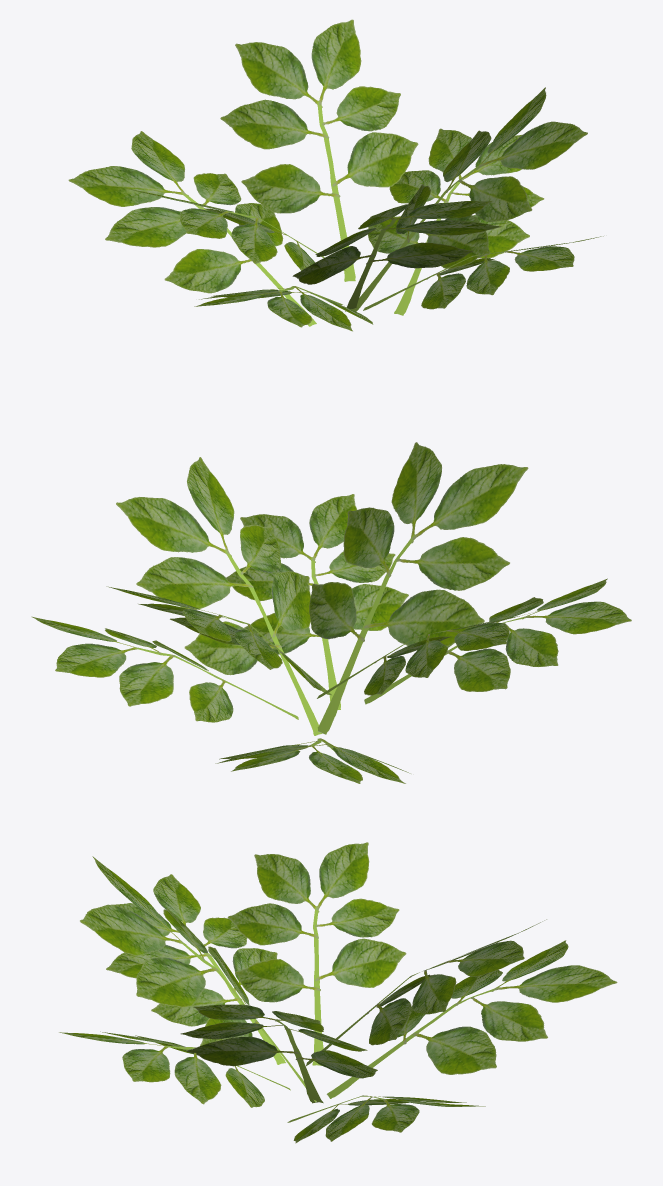
Rendered from DummyPlant.fbx.
3 renders of one model, top to bottom at view 1: azimuth 30°, elevation 25°; view 2: azimuth 150°, elevation 25°; view 3: azimuth 270°, elevation 25°, orthographic. The views are drawn at different scales.
Visible parts, largest first — view 1: dummyPlant; view 2: dummyPlant; view 3: dummyPlant.
Boxes of the visible parts, x1,y1,x2,y2 form: dummyPlant: [68, 19, 603, 331]; dummyPlant: [31, 442, 631, 783]; dummyPlant: [59, 842, 617, 1143].
Bounding box in the file's own units: 47.45 × 20.45 × 47.53.
Materials: 1 (1 with a texture image).
